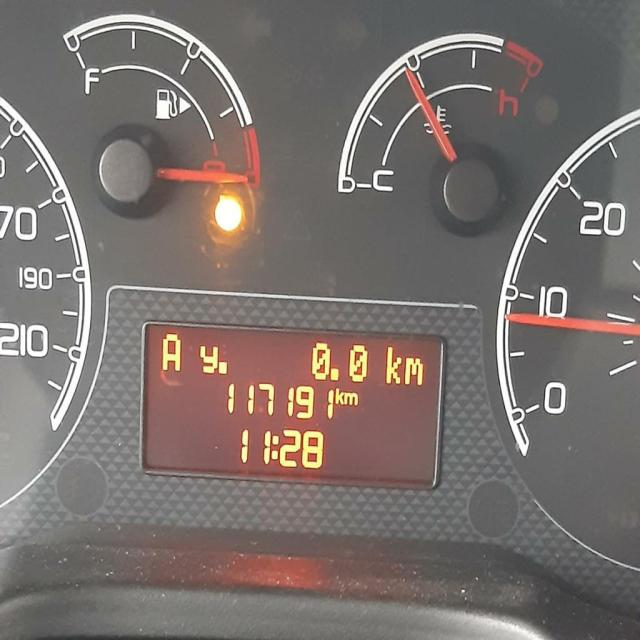odometer: (136, 318, 447, 490)
